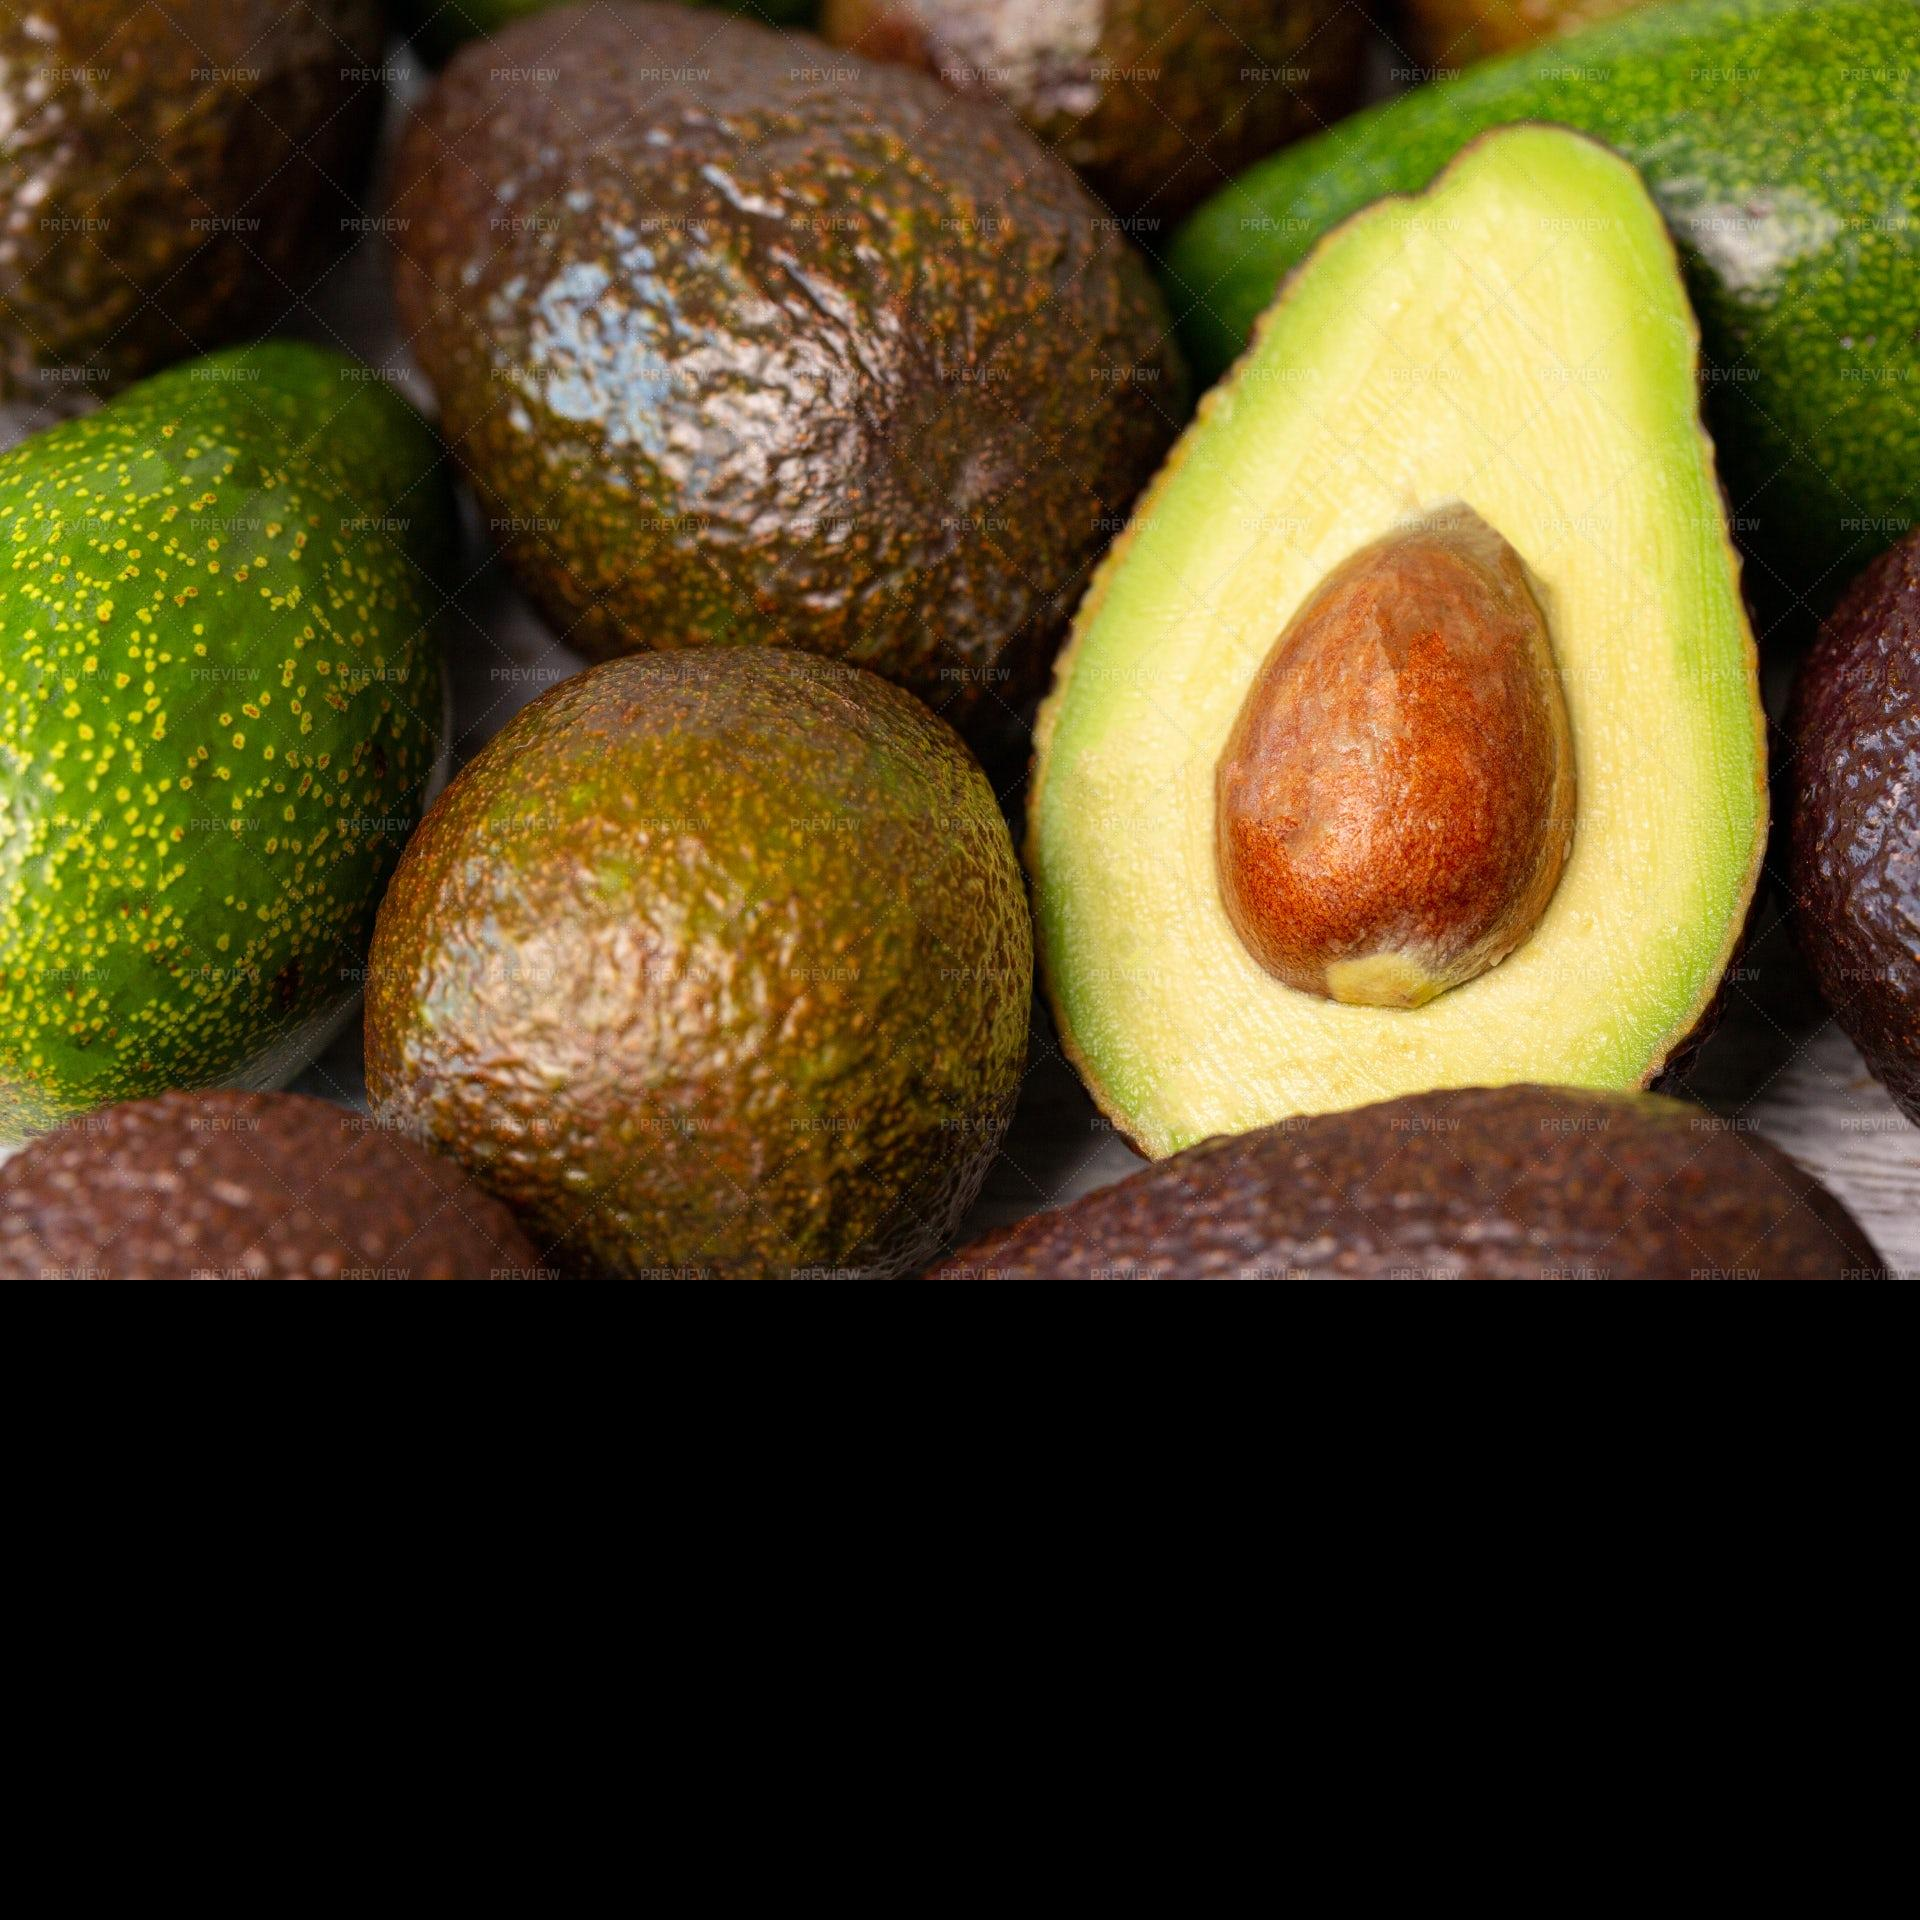almost: (362, 644, 1030, 1280)
ripe: (382, 4, 1208, 751)
unripe: (1164, 4, 1920, 577), (5, 343, 454, 1153)
